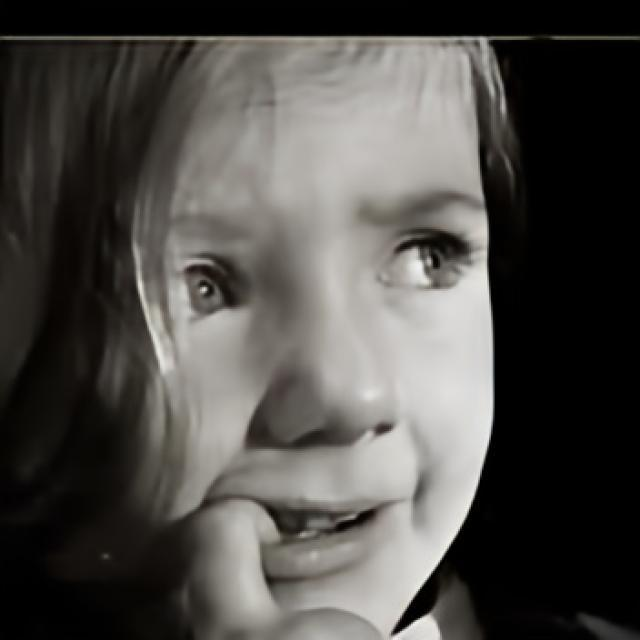fear: (98, 36, 494, 640)
